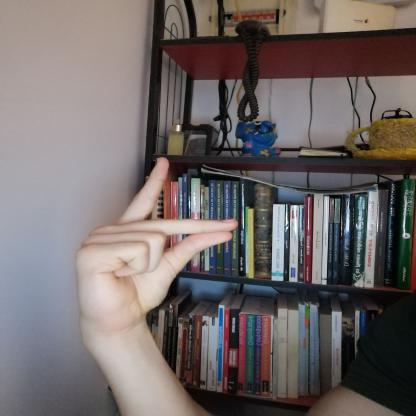TAA: (60, 148, 253, 345)
